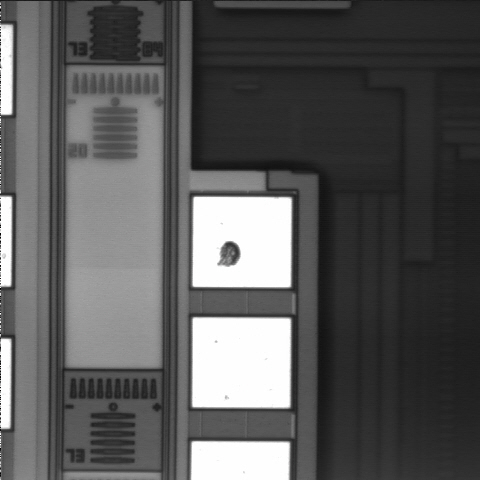pad: (192, 318, 291, 408), (193, 197, 291, 287)
